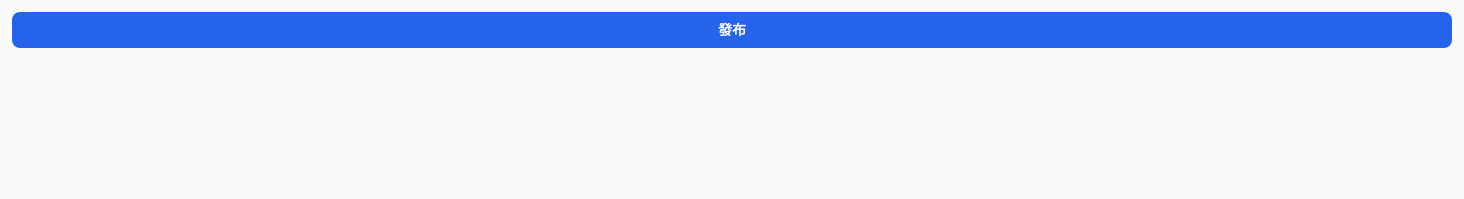
PublishPanel — 一鍵發布 + 備份確認 › shows loading state while publishing
Click the button "發布". click: (732, 30)
box: left=12, top=12, right=1452, bottom=48
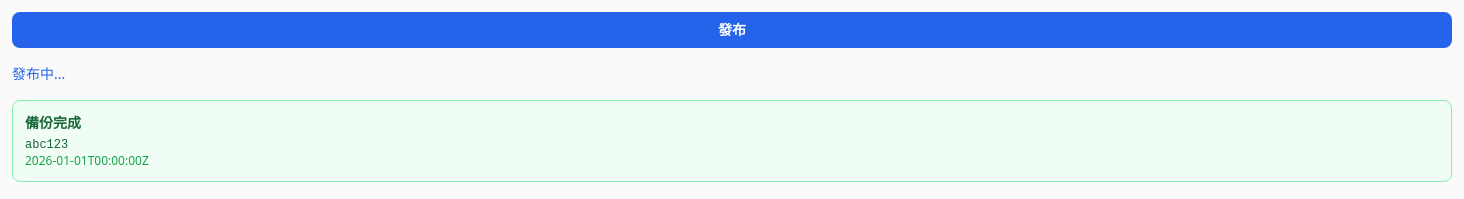
Expected: the text "發布中..." is shown, left=12, top=64, right=65, bottom=83
